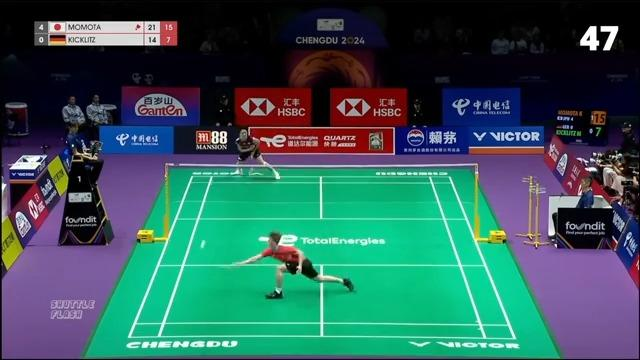Shuttlecock: (198, 236, 208, 250)
